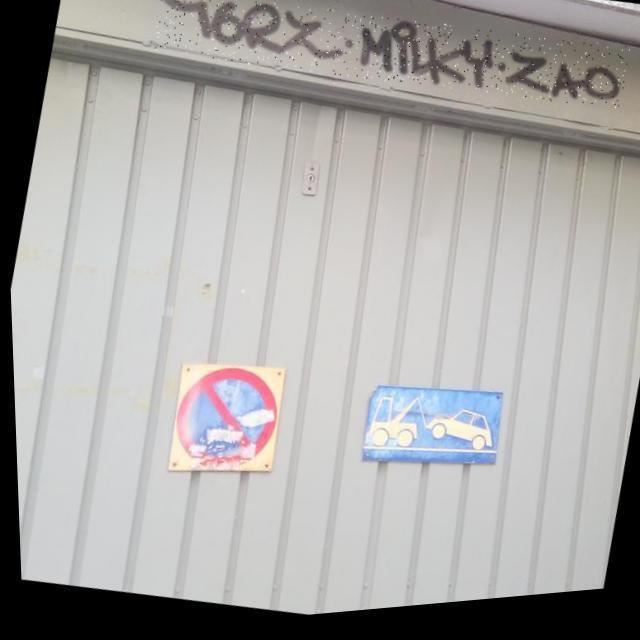-: (147, 0, 631, 153)
